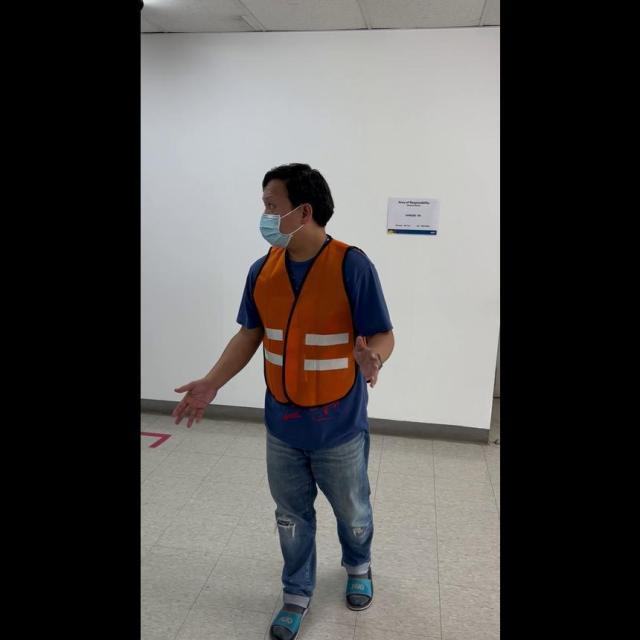bare_hand: (168, 373, 220, 428), (349, 331, 382, 391)
